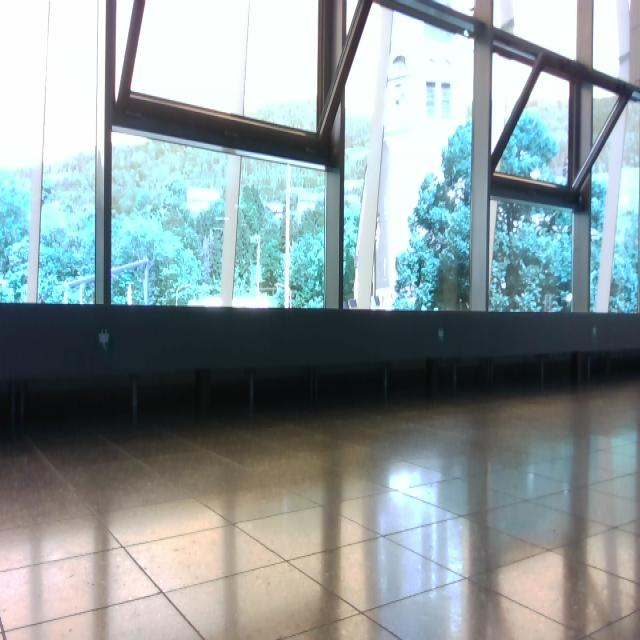light bulb: (186, 186, 221, 217), (98, 329, 110, 348)
tiled floor: (2, 380, 639, 638)
window: (1, 1, 640, 317)
